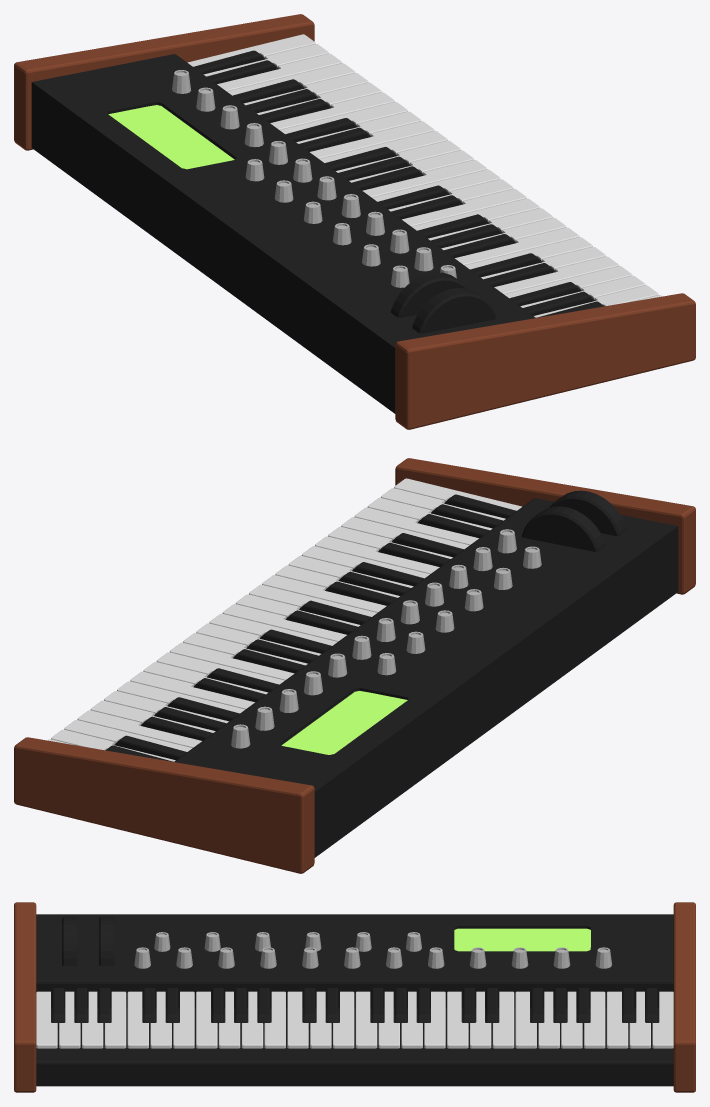
Rendered from synth.glb.
3 views of the same model, one above another, from view 1: azimuth 30°, elevation 25°; view 2: azimuth 150°, elevation 25°; view 3: azimuth 270°, elevation 25° (orthographic). The views are drawn at different scales.
Parts seen in each view (by area): view 1: Body, Edges, WhiteKeys, BlackKeys, Knobs, Dials, Screen; view 2: Body, Edges, WhiteKeys, BlackKeys, Knobs, Dials, Screen; view 3: Body, WhiteKeys, BlackKeys, Edges, Knobs, Screen, Dials.
Part boxes in pixels (x1=…): Body: x1=31, y1=54, x2=535, y2=413; Edges: x1=14, y1=14, x2=695, y2=429; WhiteKeys: x1=187, y1=34, x2=662, y2=317; BlackKeys: x1=193, y1=50, x2=603, y2=317; Knobs: x1=172, y1=70, x2=456, y2=287; Dials: x1=390, y1=272, x2=496, y2=333; Screen: x1=108, y1=105, x2=234, y2=169; Body: x1=174, y1=498, x2=678, y2=857; Edges: x1=14, y1=458, x2=695, y2=873; WhiteKeys: x1=47, y1=478, x2=521, y2=761; BlackKeys: x1=106, y1=494, x2=516, y2=761; Knobs: x1=231, y1=529, x2=541, y2=748; Dials: x1=522, y1=490, x2=627, y2=551; Screen: x1=281, y1=691, x2=407, y2=754; Body: x1=36, y1=914, x2=673, y2=1086; WhiteKeys: x1=36, y1=991, x2=673, y2=1048; BlackKeys: x1=52, y1=988, x2=657, y2=1029; Edges: x1=14, y1=902, x2=695, y2=1092; Knobs: x1=134, y1=932, x2=611, y2=968; Screen: x1=454, y1=928, x2=590, y2=951; Dials: x1=62, y1=917, x2=114, y2=966.
Size of the model in its own units: 0.999 by 0.3194 by 2.35.
